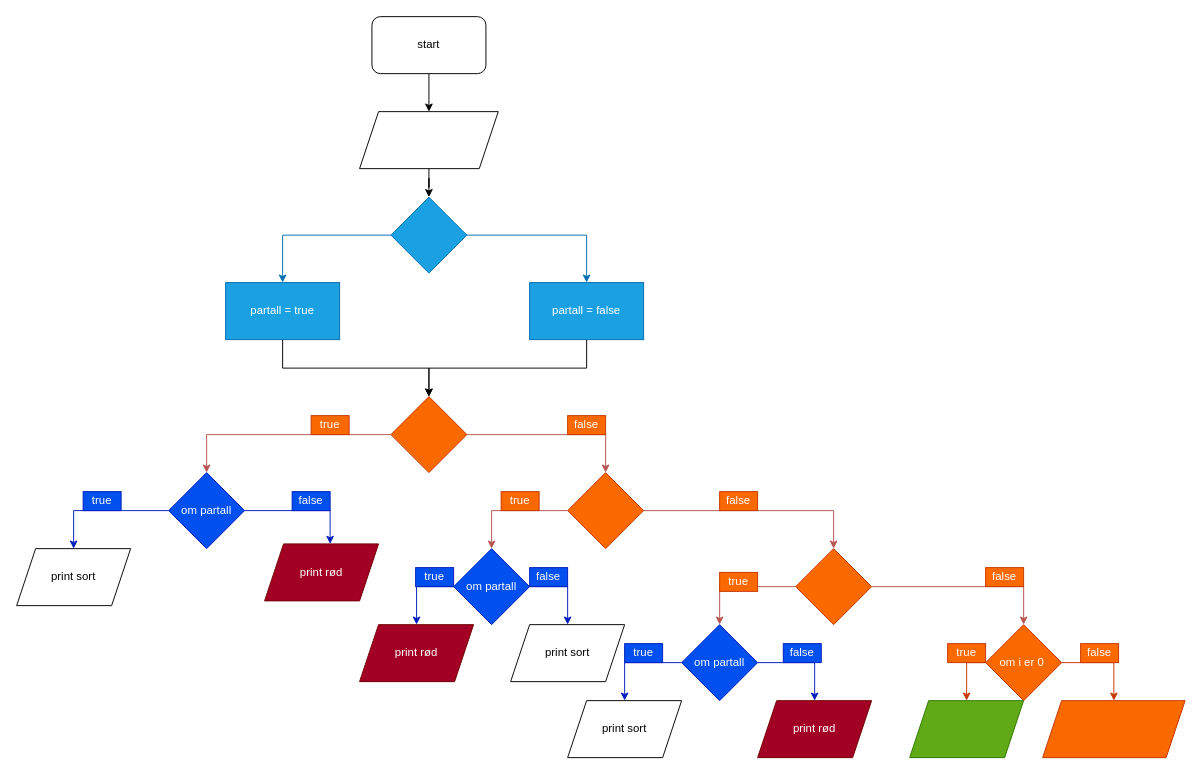
Some shapes in this 1202 by 774 pixel diagram are drawn without their labels. Each missing label, with the centre of its shape:
"få inn tall fra bruker" goes at point 428,140.
"input er utenfor range" goes at point 1113,729.
"om i er mellom 1 og 18" goes at point 428,434.
"om i er mellom 19 og 28" goes at point 605,510.
"om i er mellom 29 og 36" goes at point 833,586.
"partall?" goes at point 428,234.
"print grønn" goes at point 966,729.
